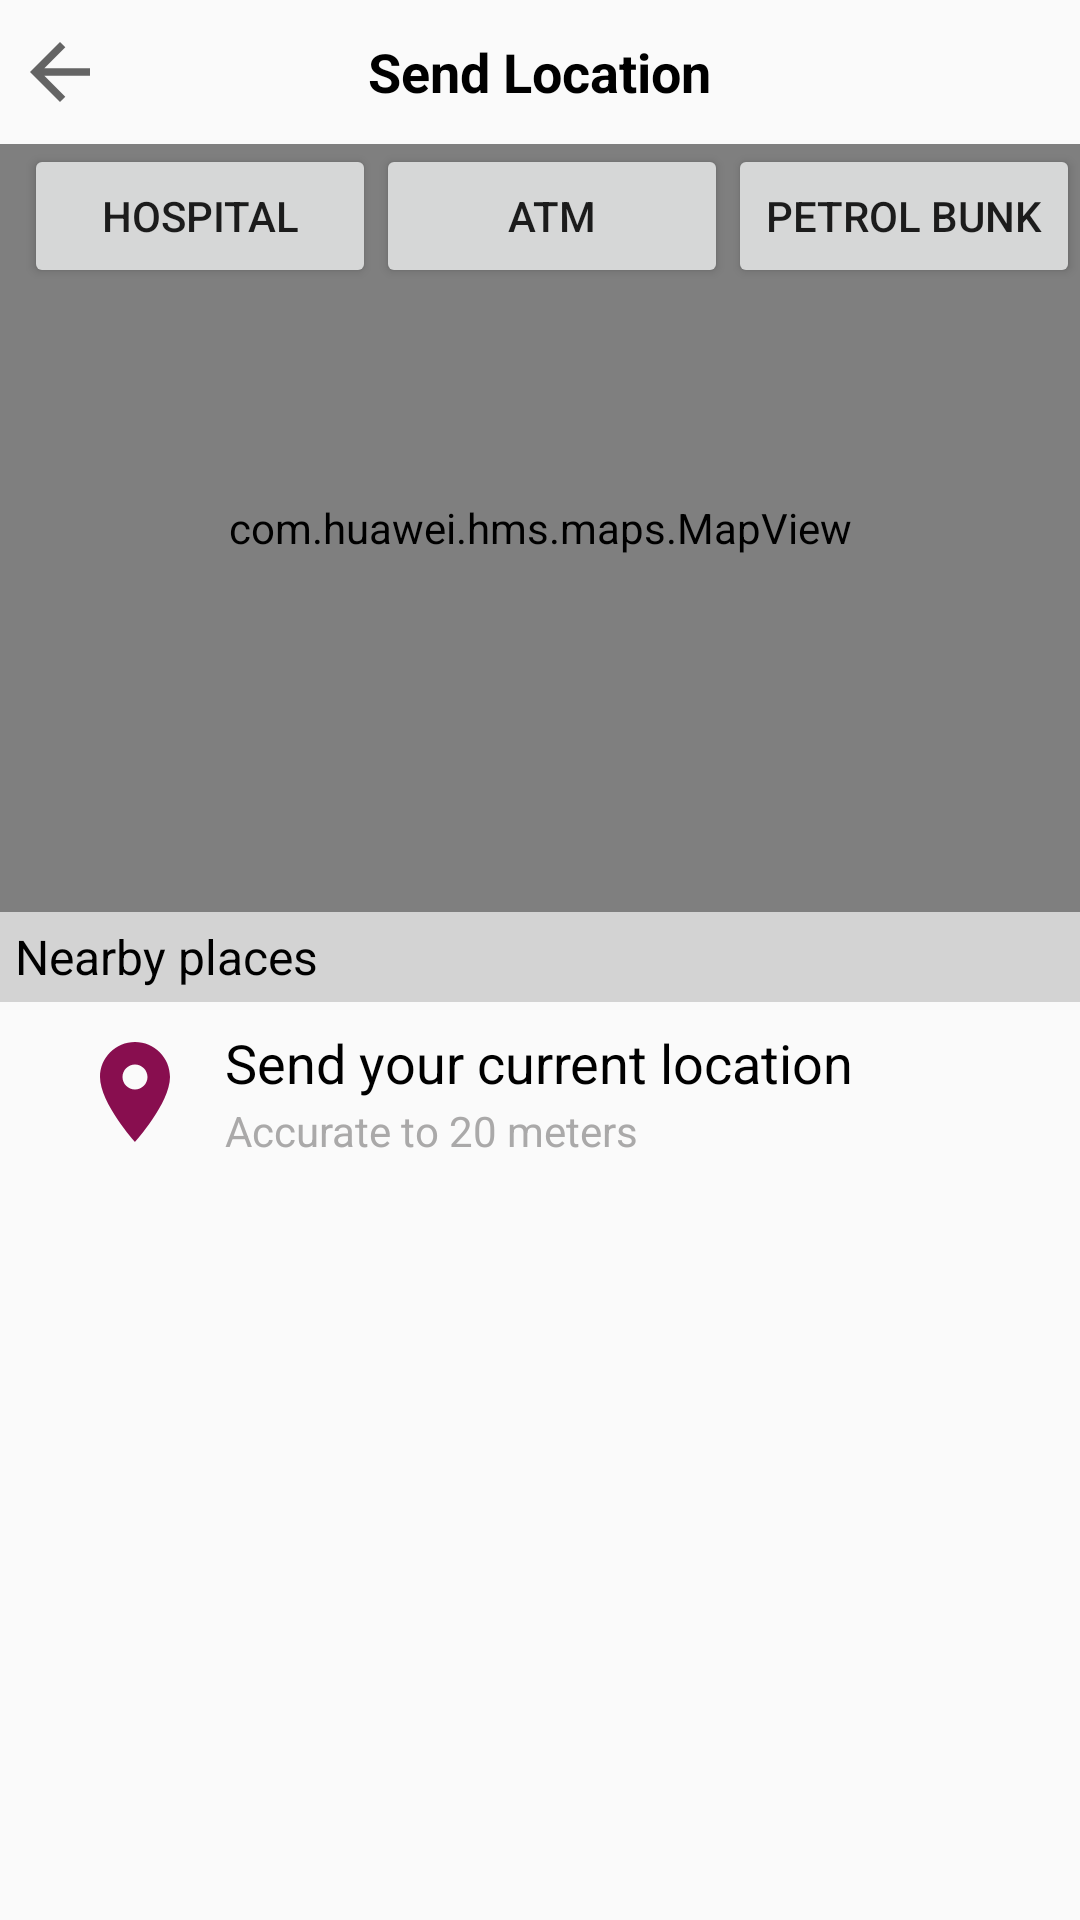

Screen size 1080w x 1920h. Icon name, then its box in pixels as (x1, y1, x2, y2):
arrow back: (30, 42, 90, 102)
